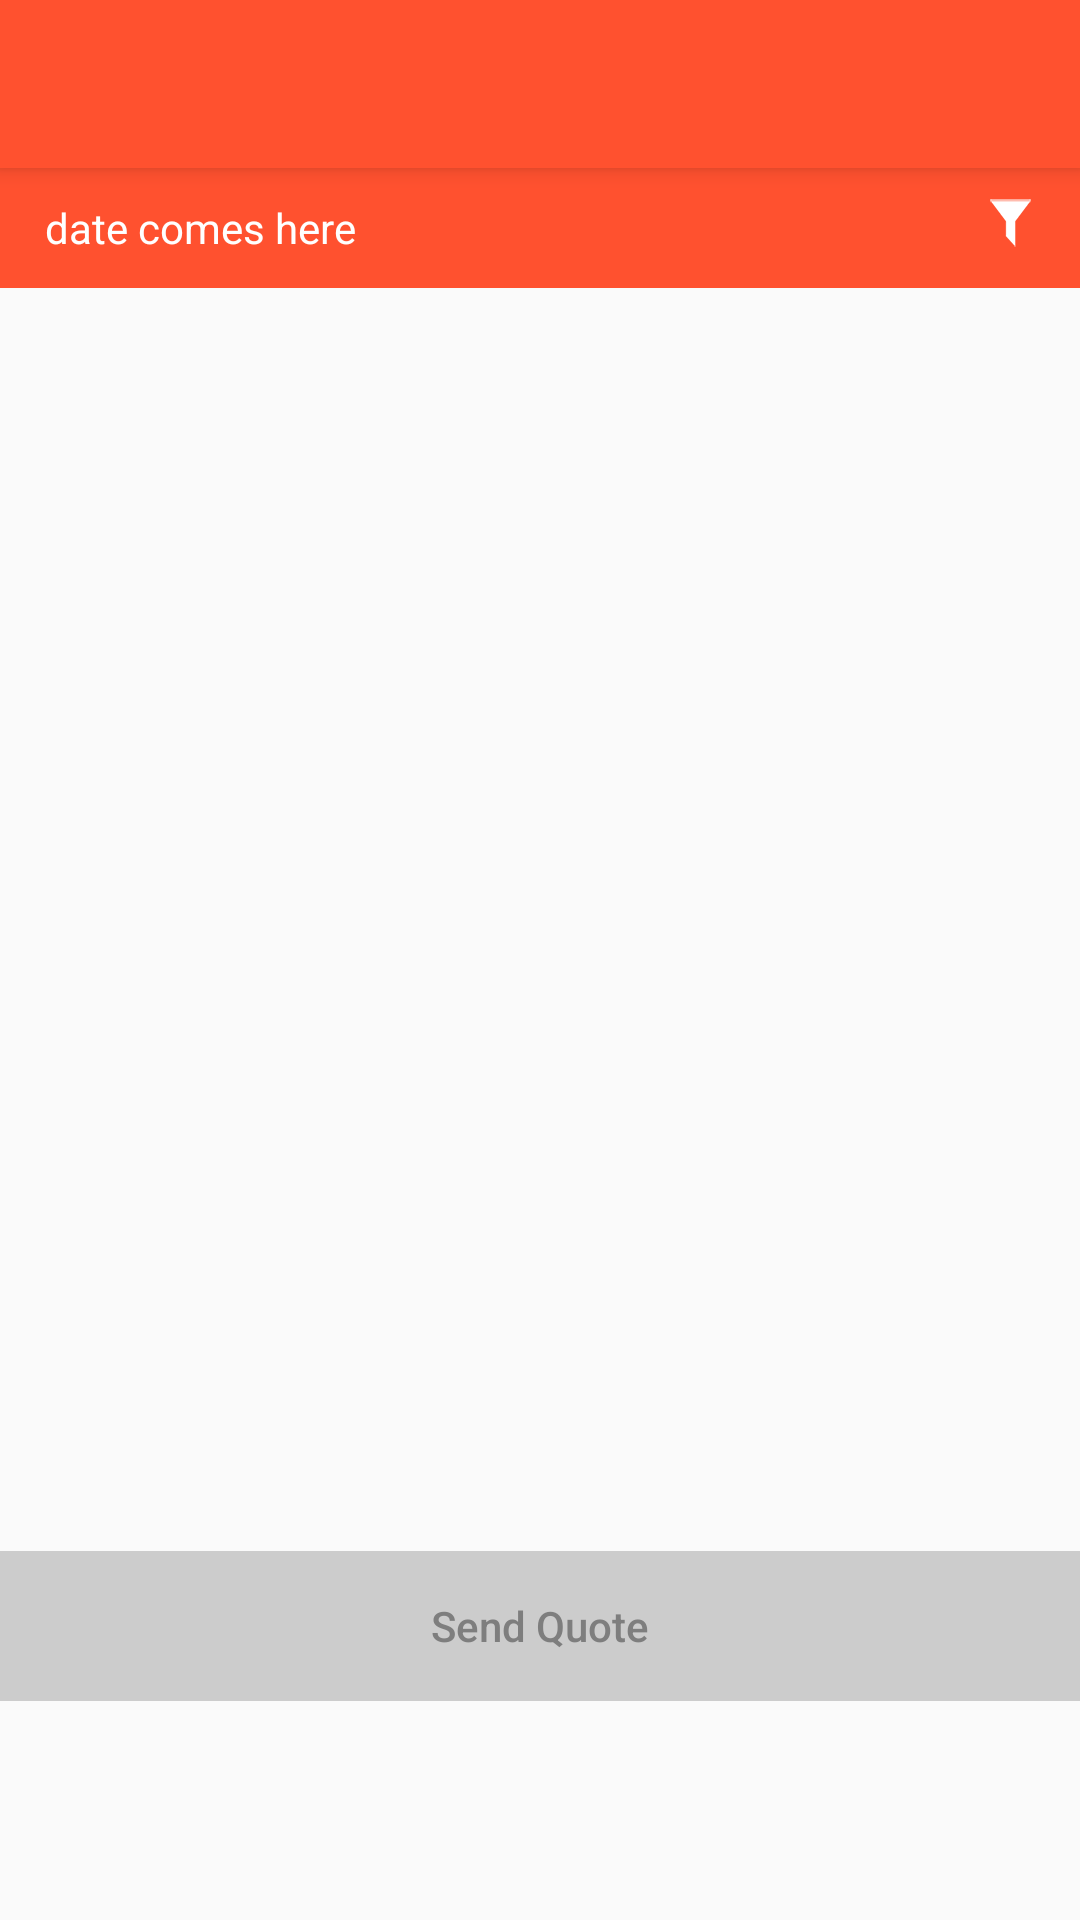

Named icons in this screenshot (1080px x 1920px) and their centers, point (x, y):
filter: point (1010, 223)
